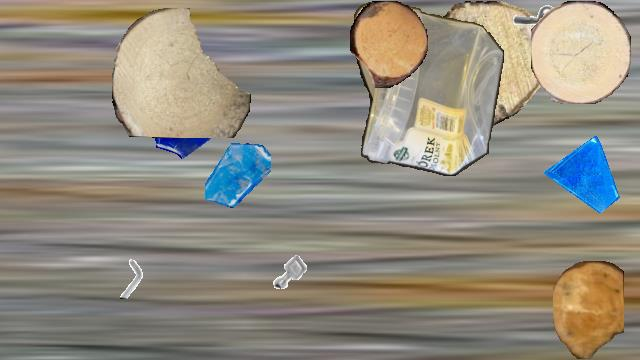glass: (144, 78, 226, 160), (544, 136, 620, 212), (205, 142, 271, 208)
metal: (498, 1, 560, 63), (265, 247, 315, 297), (110, 257, 152, 299)
plastic: (354, 1, 504, 175)
wood: (112, 8, 250, 138), (408, 1, 548, 127), (531, 1, 631, 103), (553, 261, 623, 359), (350, 1, 428, 87)
